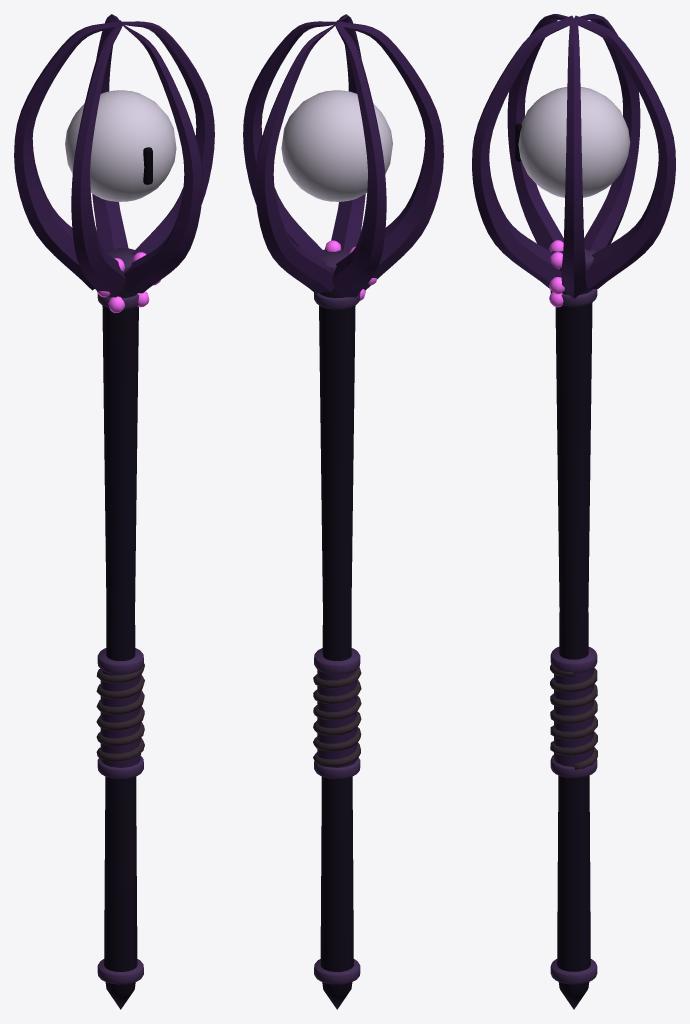
Rendered from staff_abyss_eye.fbx.
The picture shows the model from 3 angles, left to right: view 1: azimuth 30°, elevation 25°; view 2: azimuth 150°, elevation 25°; view 3: azimuth 270°, elevation 25°; orthographic projection.
Visible parts, largest first — view 1: staff_abyss_eye; view 2: staff_abyss_eye; view 3: staff_abyss_eye.
Part boxes in pixels (x1,y1,x2,y2): staff_abyss_eye: [14, 14, 214, 1009]; staff_abyss_eye: [243, 14, 443, 1009]; staff_abyss_eye: [472, 14, 675, 1009].
Size of the model in its own units: 0.2483 by 1.36 by 0.2536.
